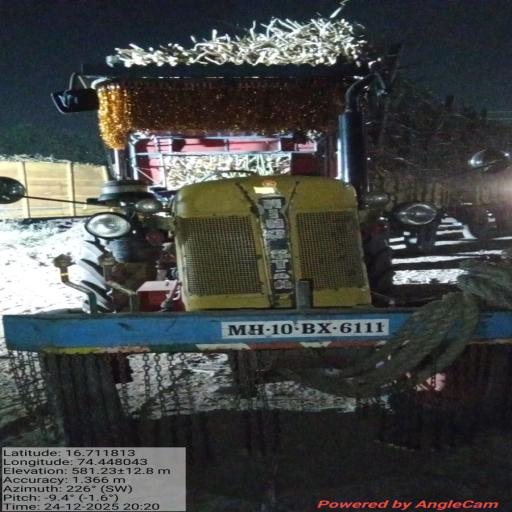number_plate: (222, 319, 389, 339)
